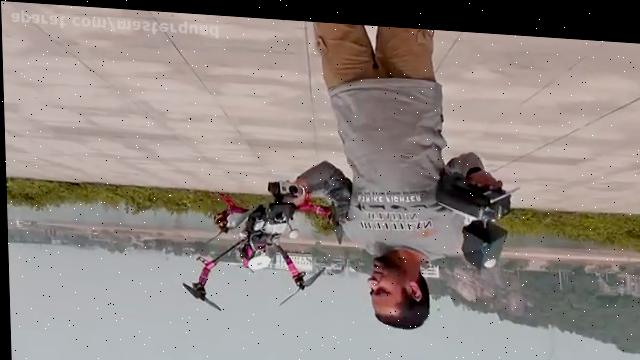drone: (174, 170, 345, 316)
